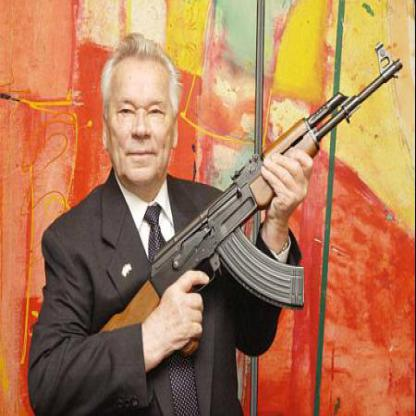face: (106, 42, 176, 188)
